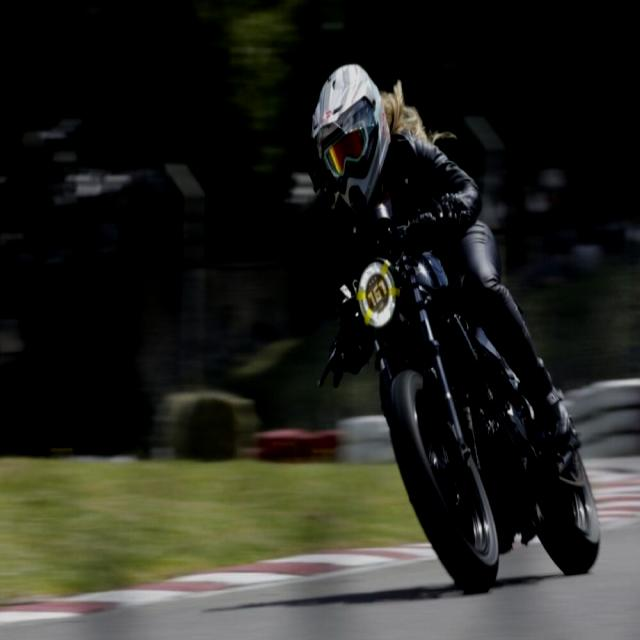MOTORCYCLE: (347, 212, 605, 581)
